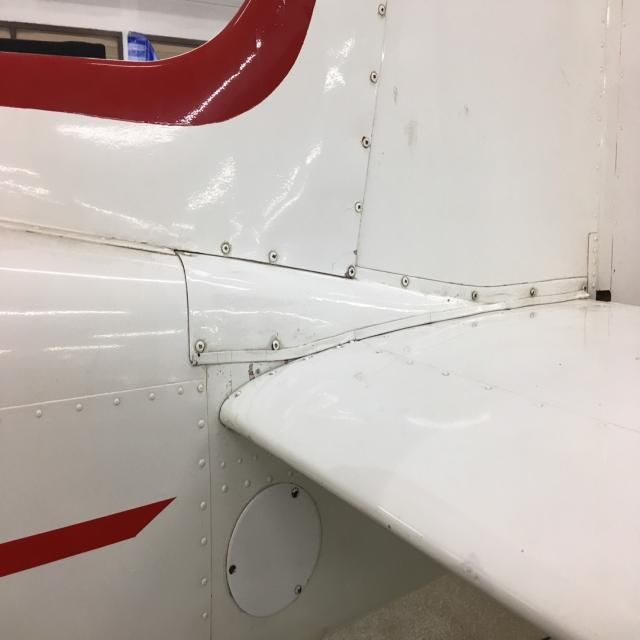Rupture: (200, 324, 301, 406), (381, 70, 423, 164)
